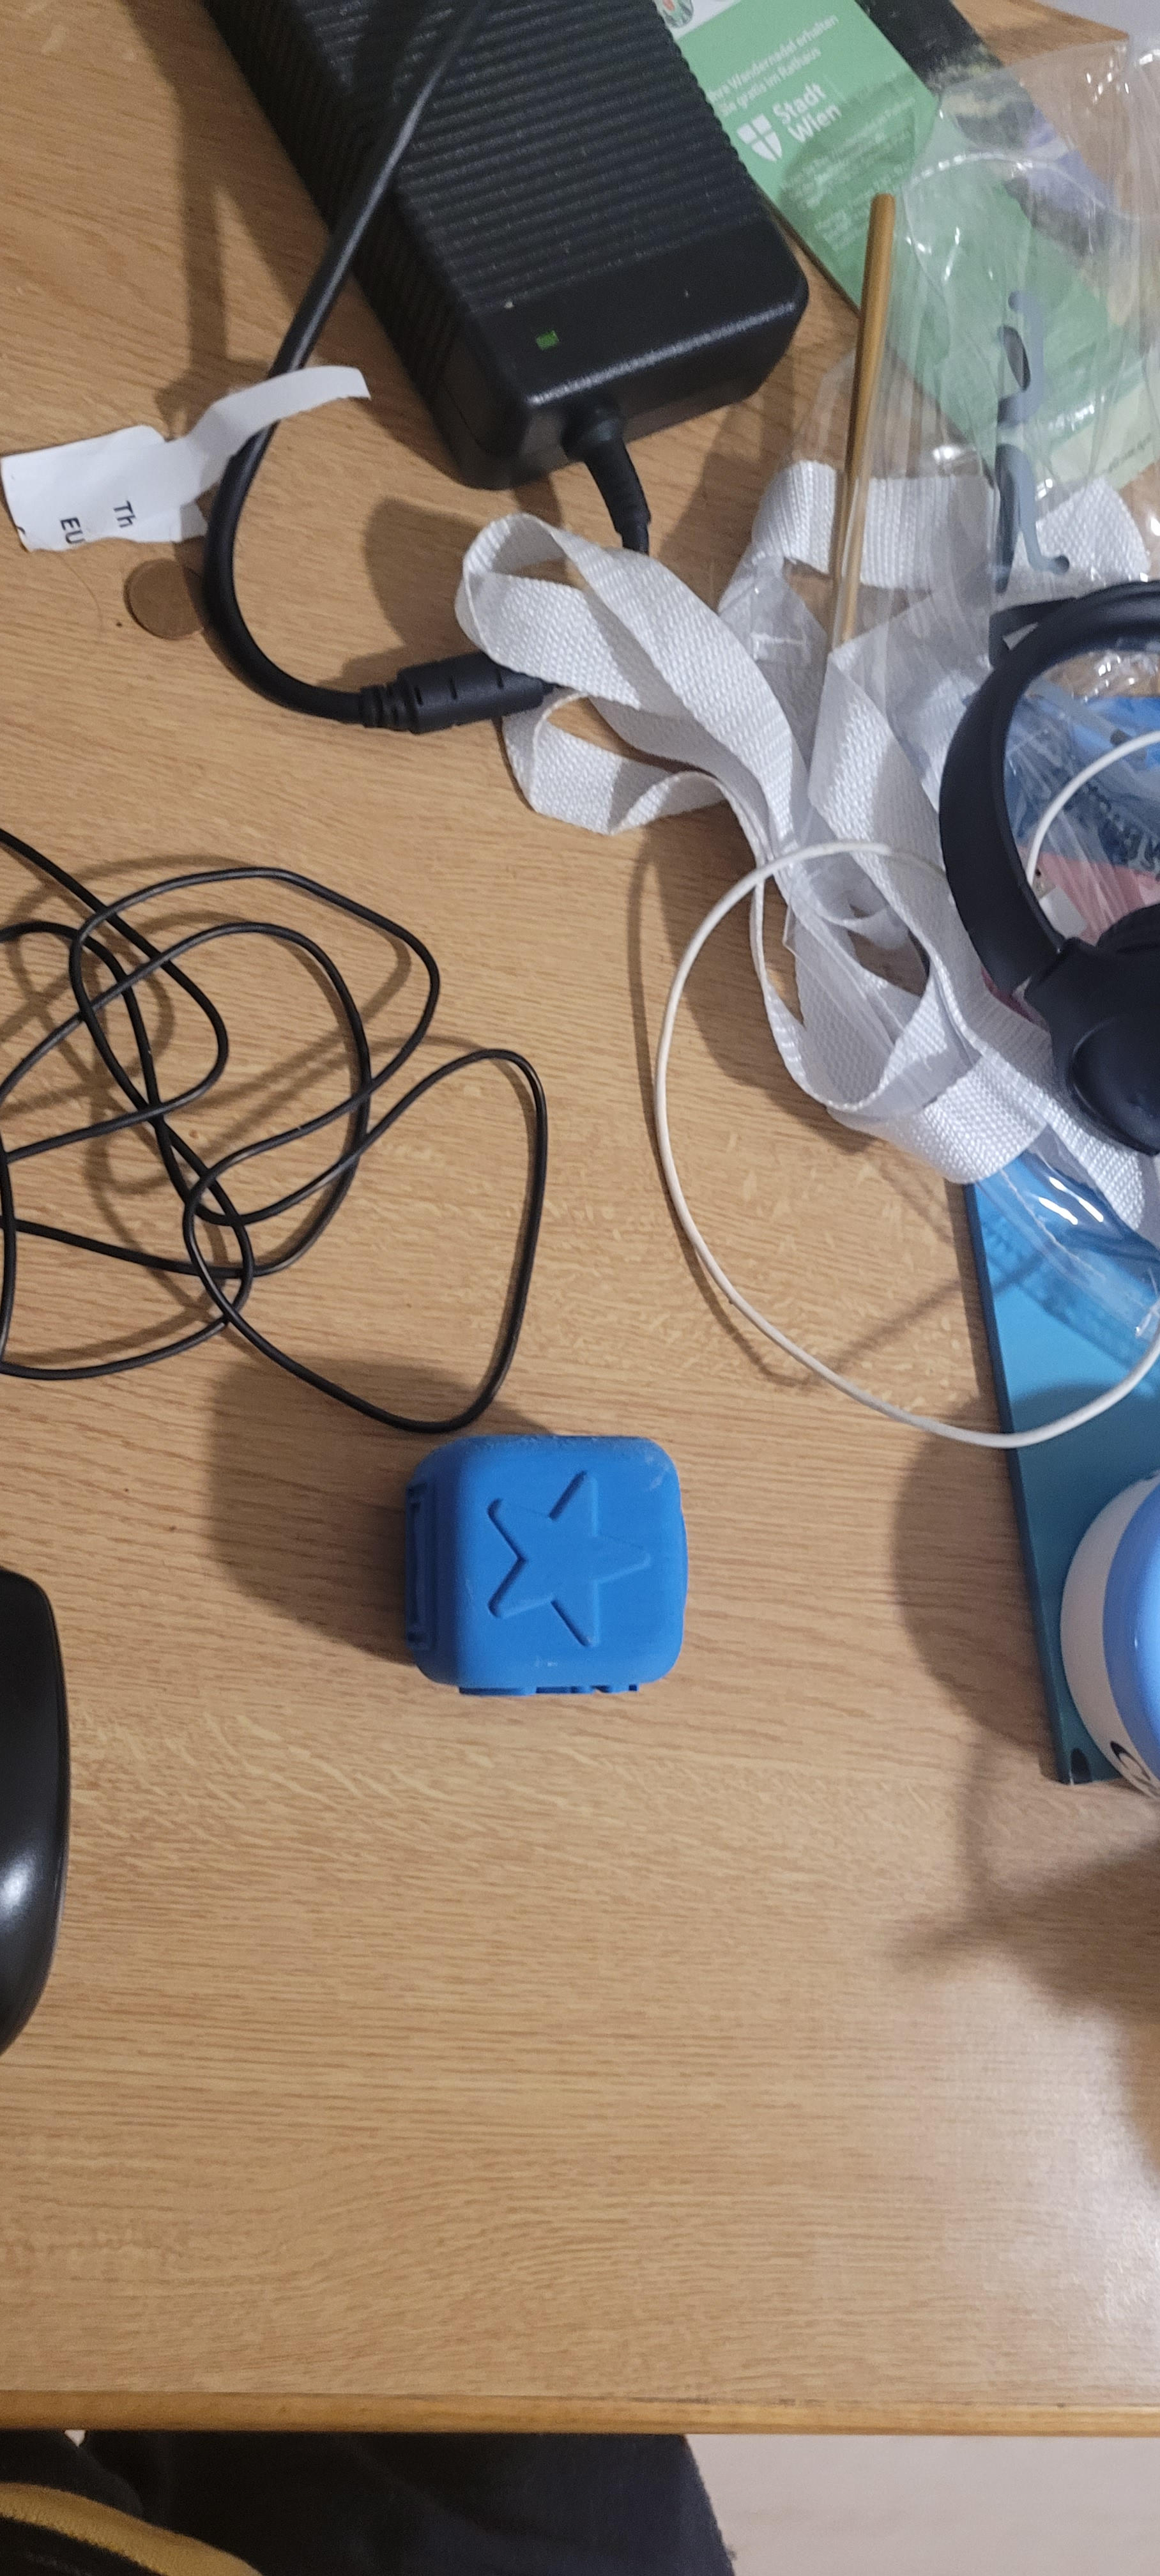Star: (496, 1433, 675, 1672)
